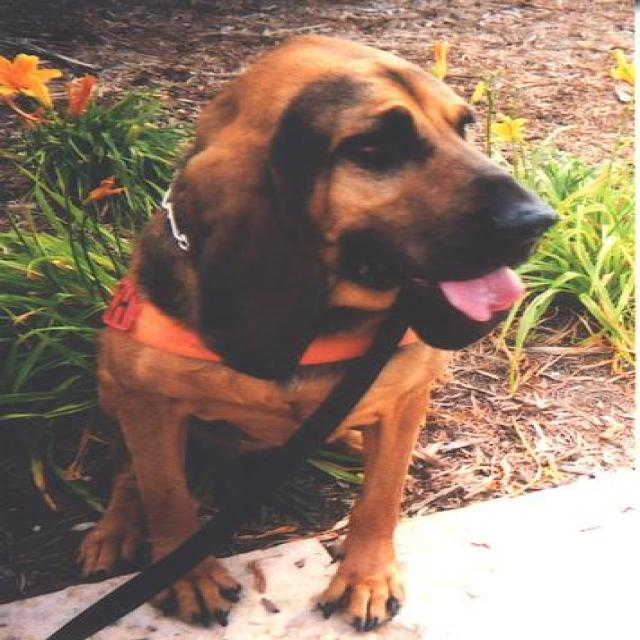bloodhound: (66, 32, 558, 634)
